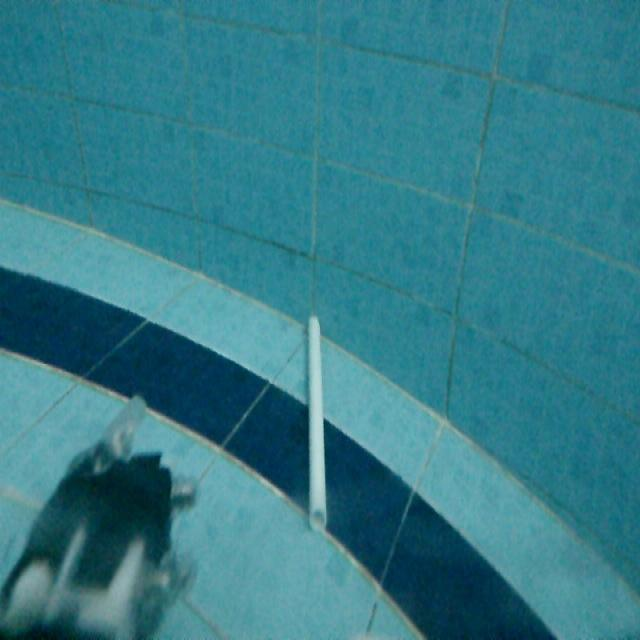Cube: (303, 309, 330, 532)
